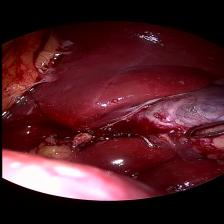Grasper: (187, 118, 223, 142)
